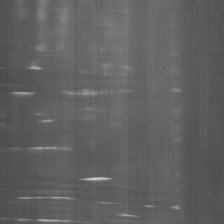waist_folding: (22, 39, 203, 222)
